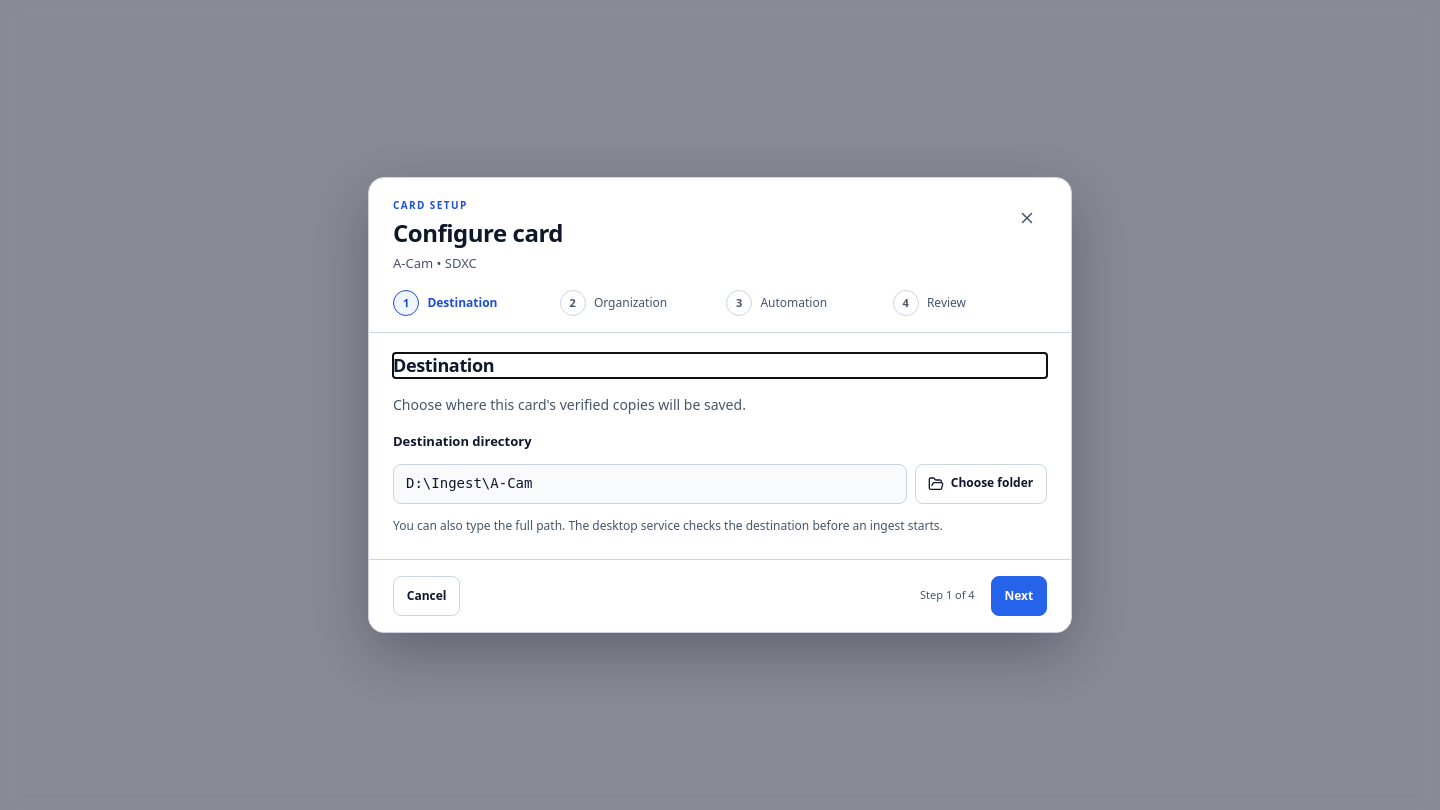
Scenario: blocks organization progression for an invalid custom interval
Click the button "Next": x=1019, y=596 [991,576,1047,616]
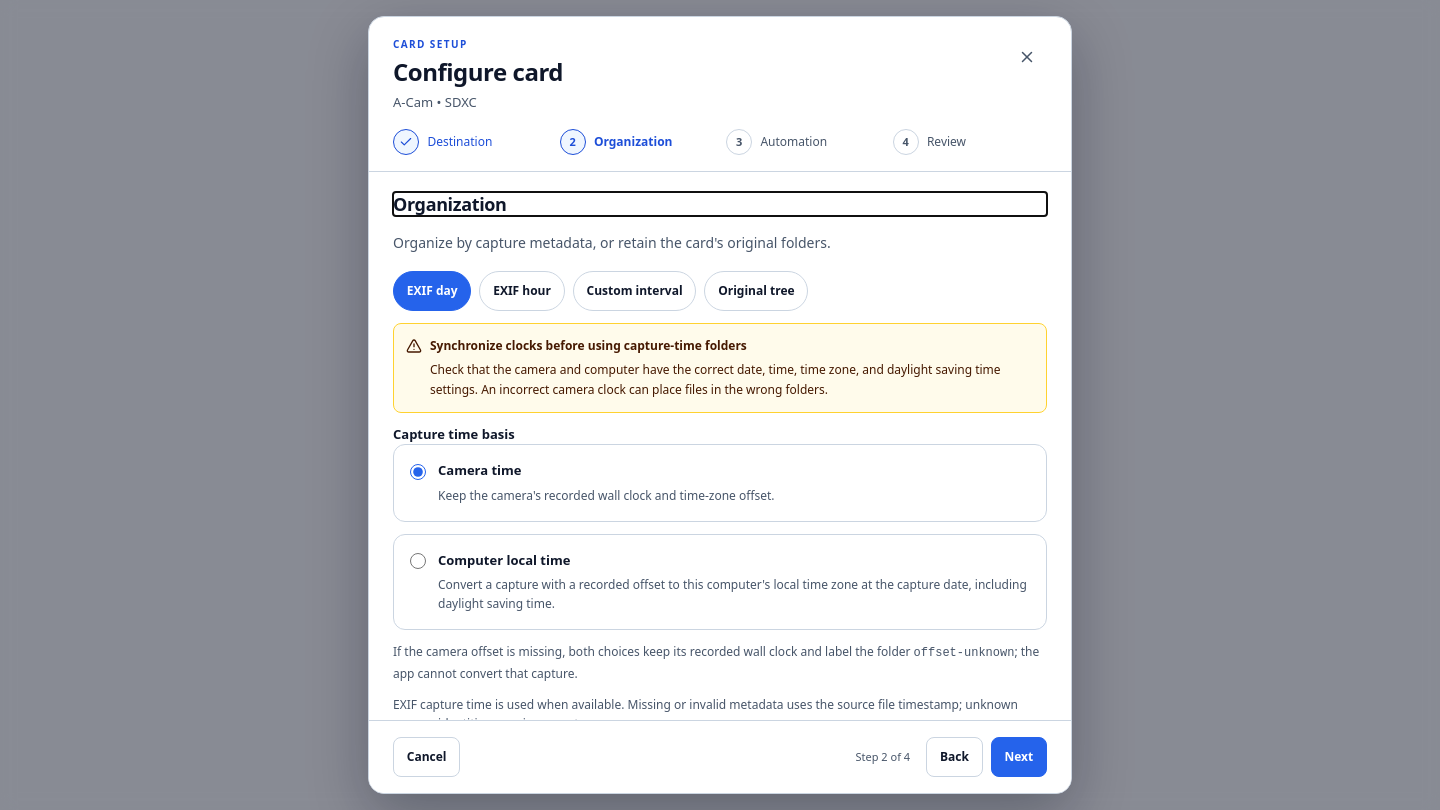
Click the button "Custom interval": x=635, y=291 [573,271,696,311]
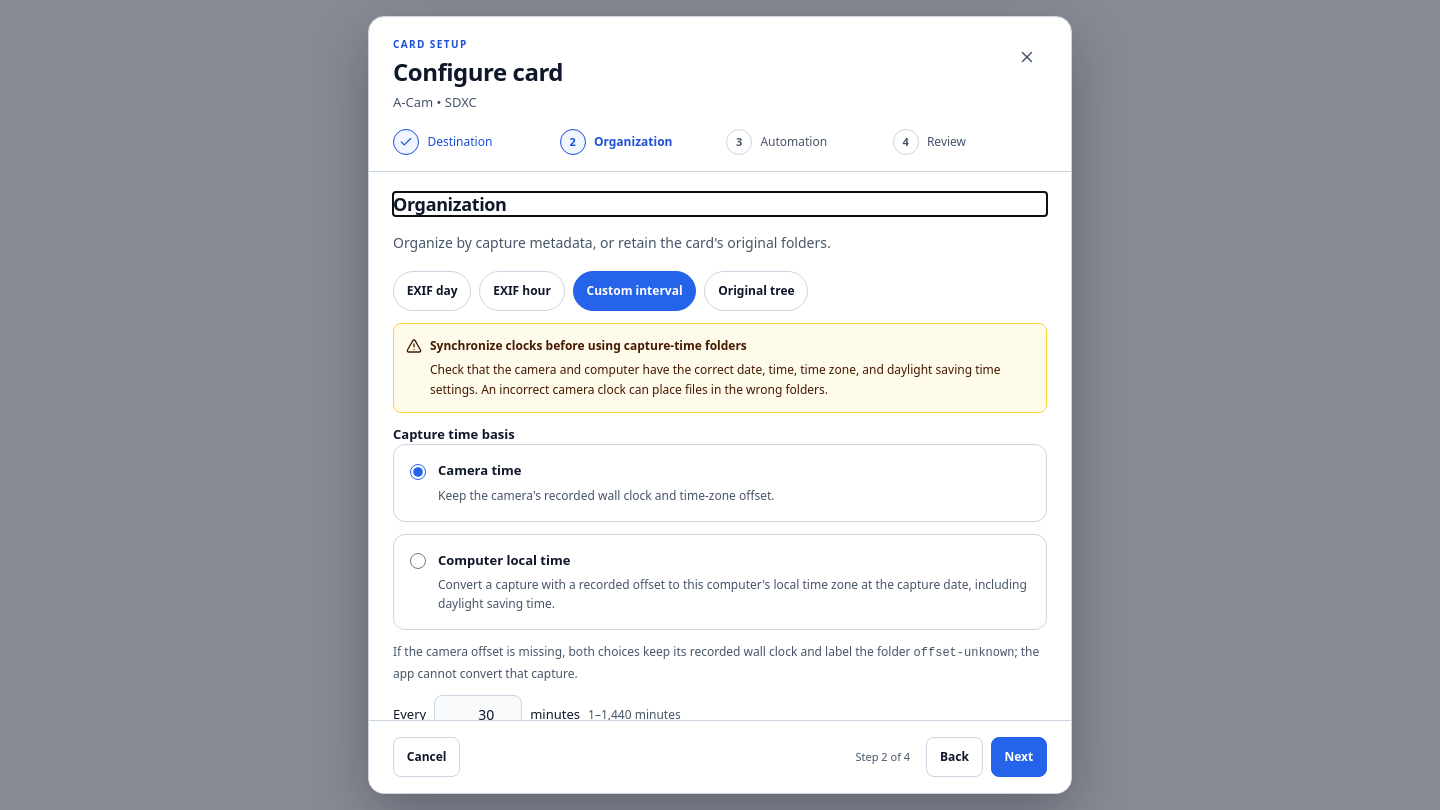
Clear the number field named "Custom interval minutes": x=478, y=715 [434,695,522,735]
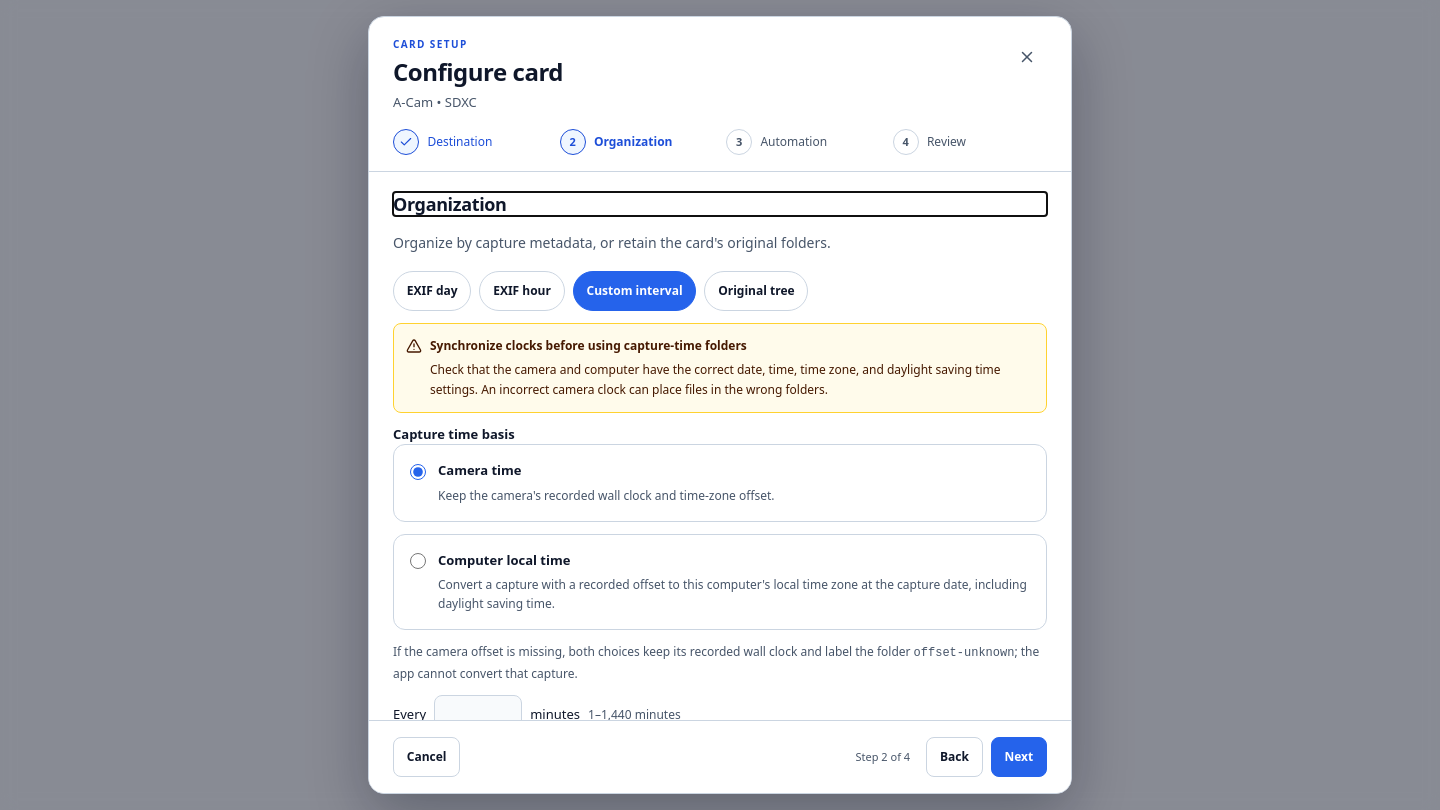
Click the button "Next": x=1019, y=757 [991,737,1047,777]
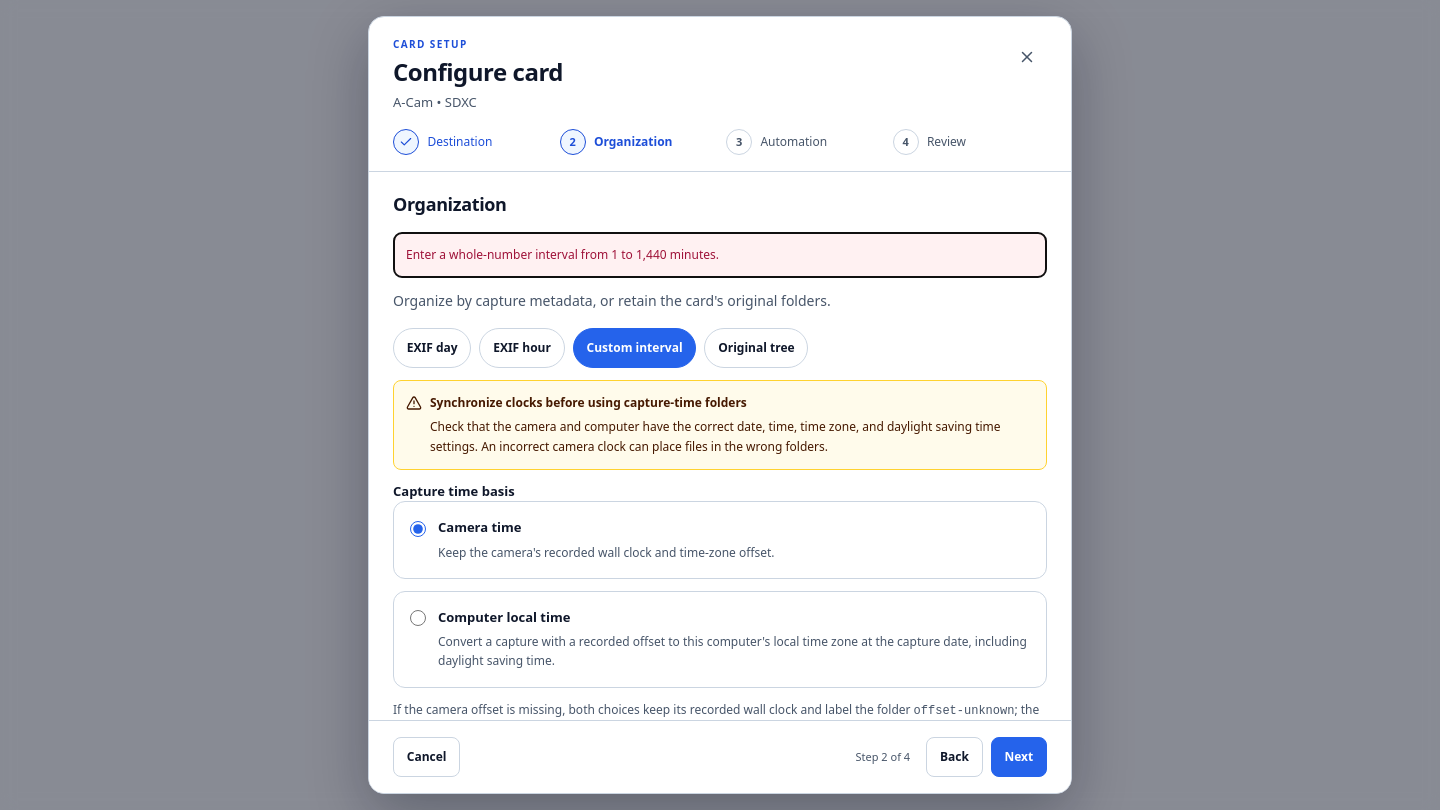
Expected: the heading "Organization" is shown, [393,192,506,216]
Expected: the message reads "Enter a whole-number interval from 1 to 1,440 minutes.", [406,246,719,263]
